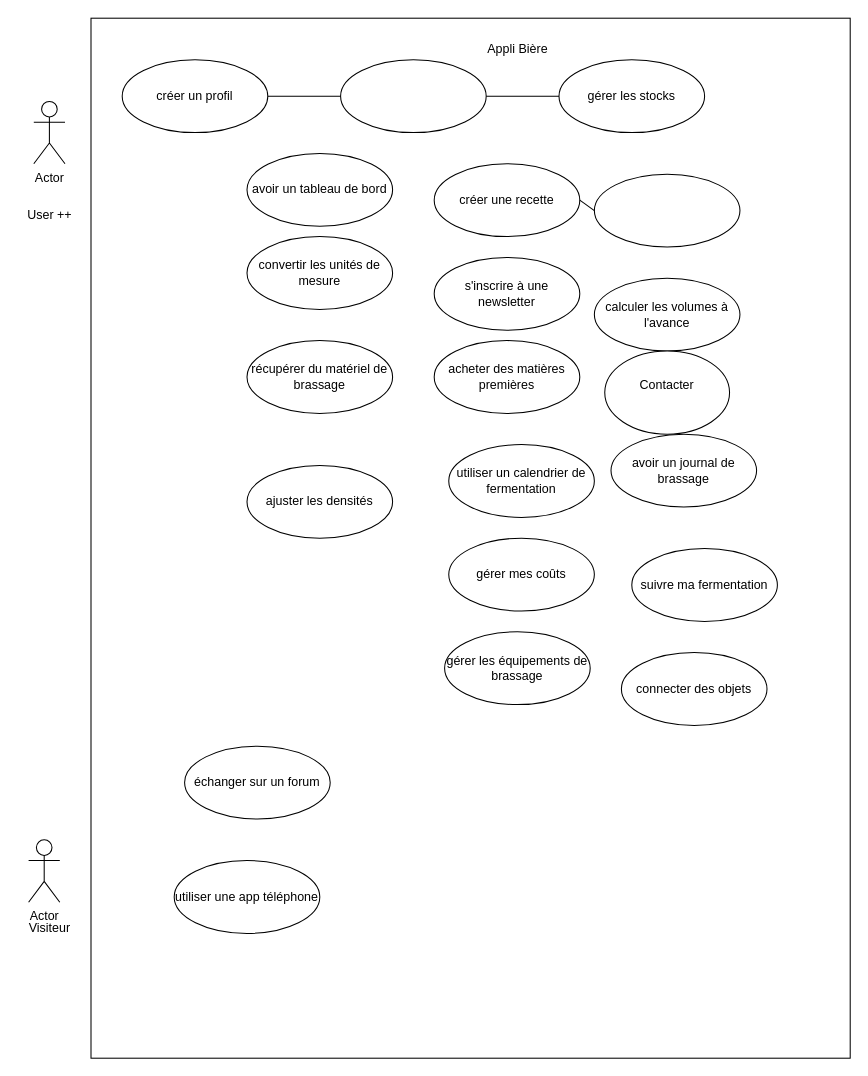
Image size: 868x1076. Some labels were removed from this diagram. Each missing label, with the centre of its shape:
partager mes recettes: (x=666, y=210)
se logger: (x=413, y=96)
